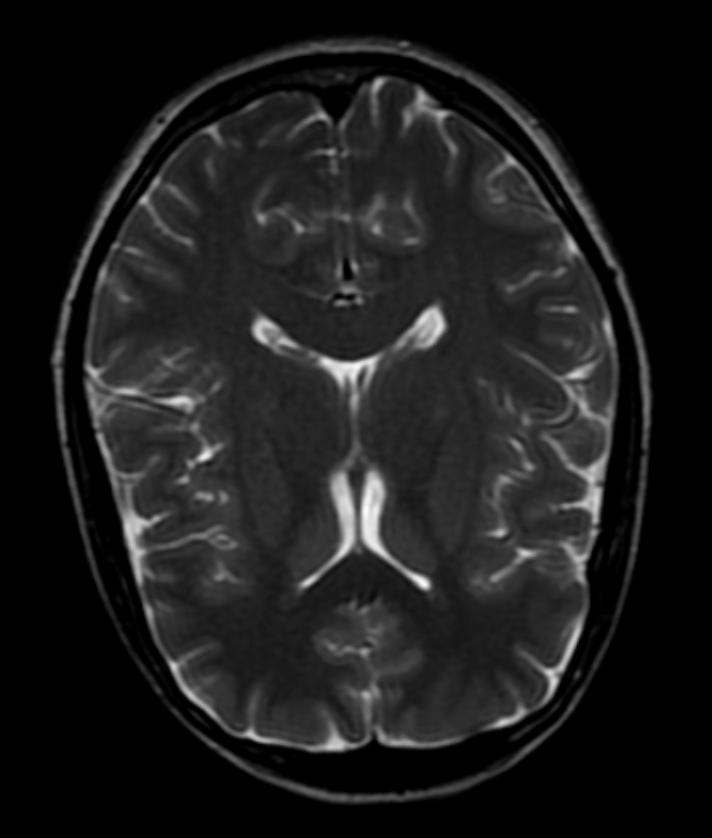Normal_Brain: (1, 1, 712, 836)
